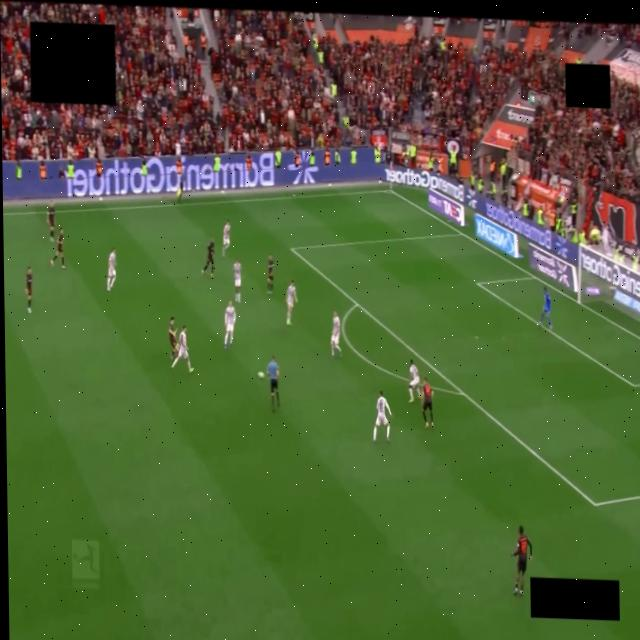ball: (257, 372, 264, 379)
player: (512, 526, 531, 595), (171, 326, 192, 373), (372, 391, 390, 442), (538, 286, 552, 330), (50, 228, 65, 268), (408, 359, 421, 403), (422, 377, 433, 428), (224, 302, 235, 348), (330, 311, 341, 356), (201, 240, 214, 277), (286, 281, 296, 325), (106, 248, 115, 291), (169, 317, 177, 359), (46, 201, 54, 241), (233, 261, 240, 303), (25, 266, 31, 313), (222, 220, 229, 256), (267, 255, 273, 294)
referee: (266, 356, 279, 412)
